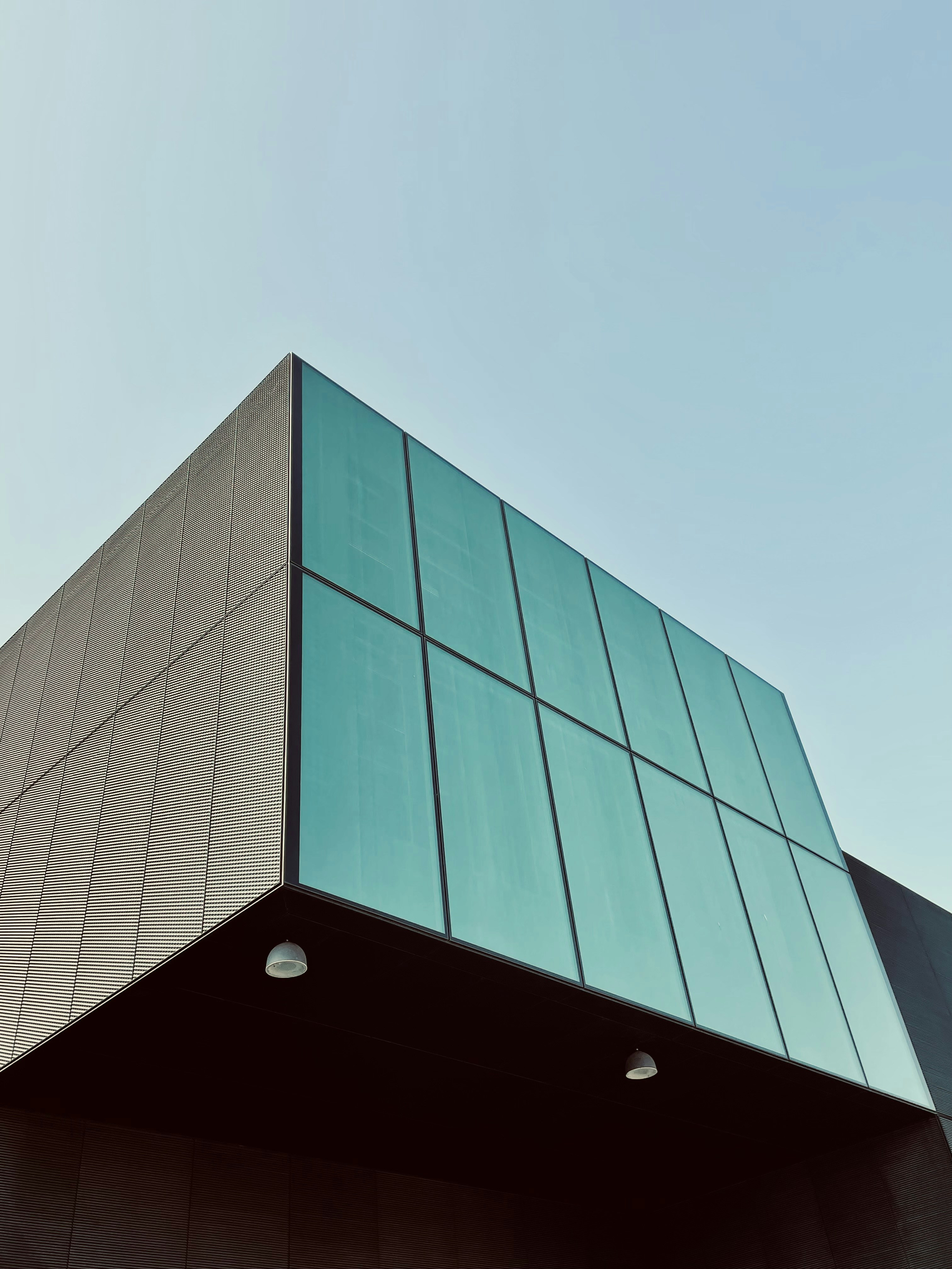glass panel: (300, 576, 443, 929), (429, 646, 577, 979), (541, 709, 689, 1019), (636, 761, 783, 1053), (721, 807, 864, 1083), (792, 845, 931, 1107), (301, 365, 417, 626), (409, 439, 529, 688), (506, 506, 623, 741), (590, 565, 706, 788), (664, 614, 780, 829), (730, 658, 843, 865)
